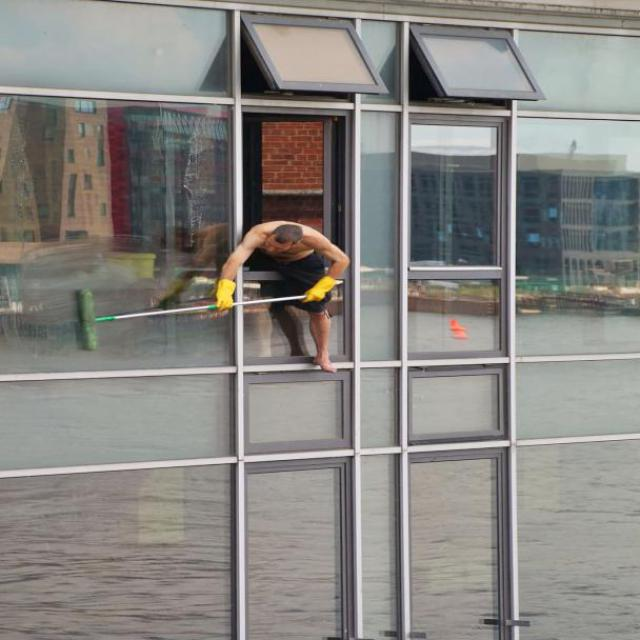gloves: (296, 275, 349, 306), (209, 278, 259, 307)
